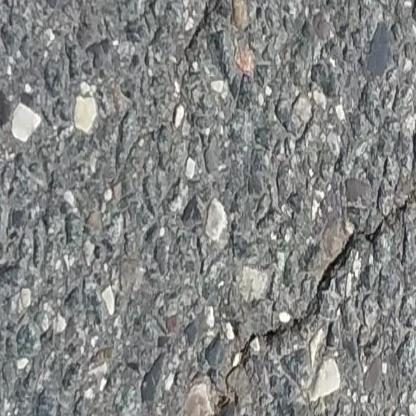Cracks: (242, 229, 358, 353), (200, 0, 239, 26), (361, 217, 388, 246)
